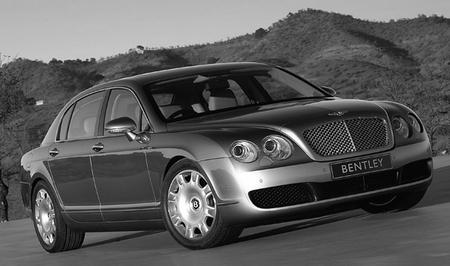car: (20, 63, 436, 254)
